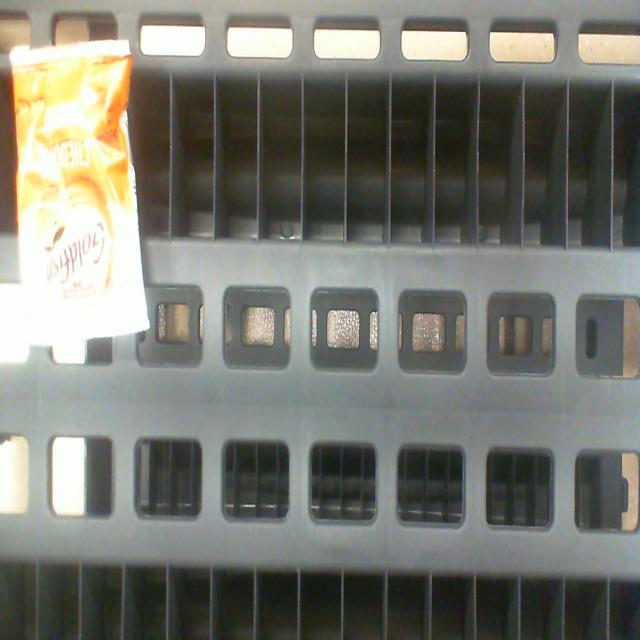snack: (9, 44, 151, 338)
